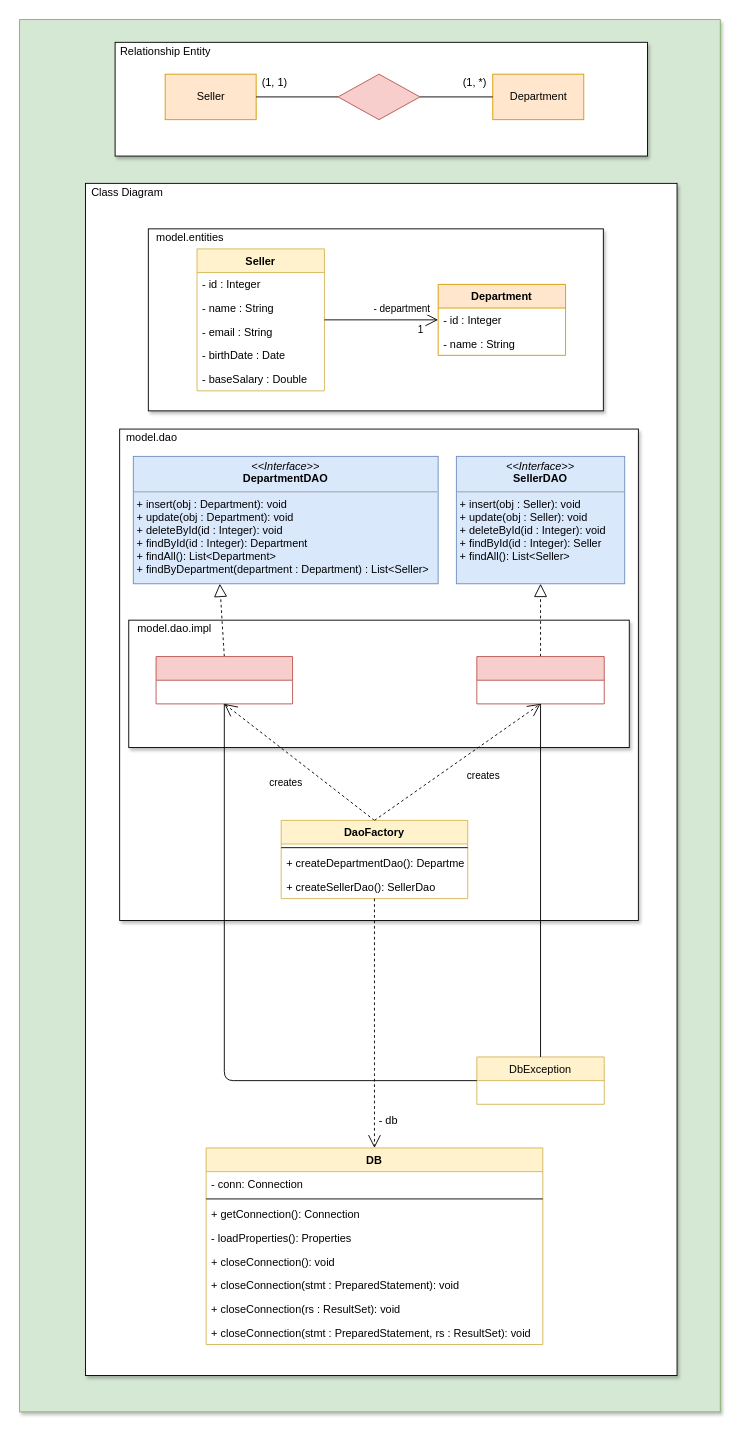
The diagram is 742 pixels wide and 1434 high, and some of its shapes have lost their labels. The shapes that lost their labels are listed below. From the top down, each one's centre as x and y in pixels, then its label:
At (378,96): "Works".
At (224,680): "DepartmentDaoJDBC".
At (540,680): "DaoJDBC".
